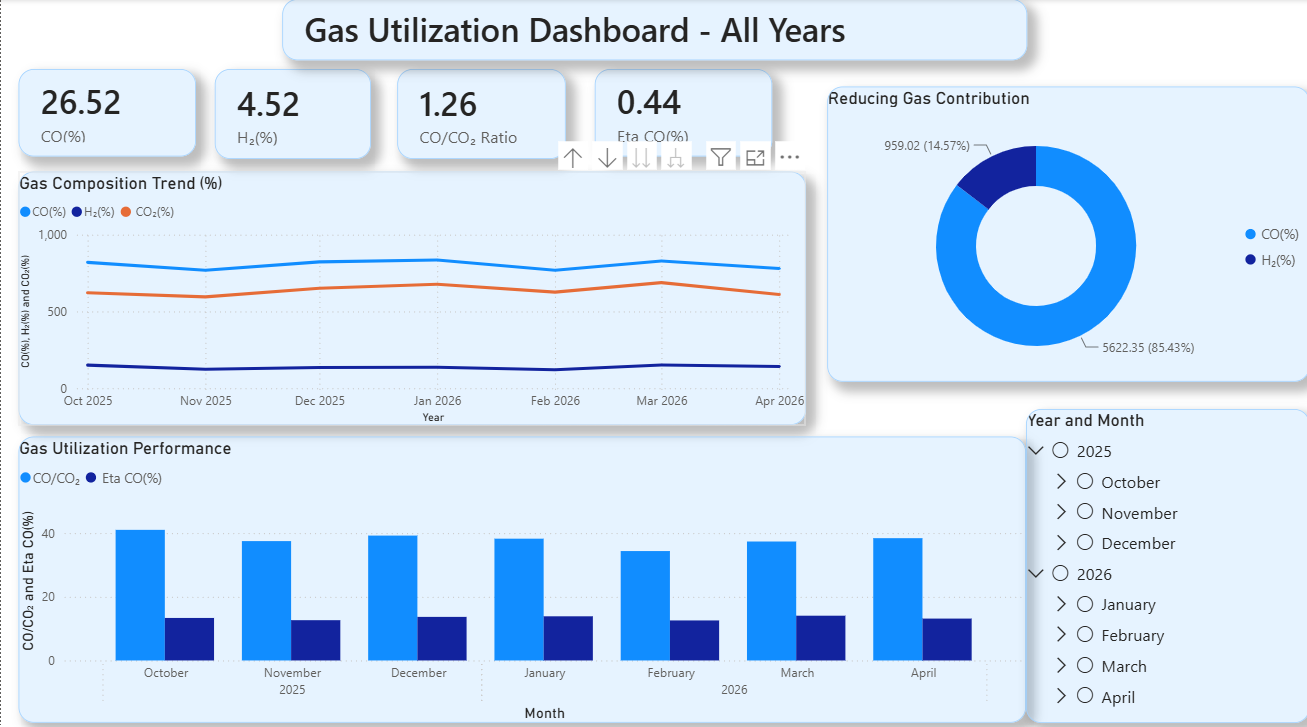

The dashboard page shown, as its layout file describes it:
{"tool":"powerbi","page":{"name":"Gas Utilization","canvas":[1280,720],"ordinal":2},"visuals":[{"type":"cardVisual","fields":{"Data":["Avg(Gas Utilization.CO(%))"]},"box":[17.1,68.5,173.6,85.6],"z":0},{"type":"cardVisual","fields":{"Data":["Avg(Gas Utilization.H₂(%))"]},"box":[209.1,68.5,152.9,88],"z":1000},{"type":"cardVisual","fields":{"Data":["Avg(Gas Utilization.CO/CO₂)"]},"box":[387.6,68.5,165.1,88],"z":2000},{"type":"cardVisual","fields":{"Data":["Avg(Gas Utilization.Eta CO(%))"]},"box":[580.8,68.5,173.6,85.6],"z":3000},{"type":"lineChart","title":"Gas Composition Trend (%)","fields":{"Y":["Sum(Gas Utilization.CO(%))","Sum(Gas Utilization.H₂(%))","Sum(Gas Utilization.CO₂(%))"],"Category":["Mass Balance.Date.Variation.Date Hierarchy.Year","Mass Balance.Date.Variation.Date Hierarchy.Month"]},"box":[17.1,168.8,770.4,248.2],"z":4000},{"type":"donutChart","title":"Reducing Gas Contribution","fields":{"Y":["Sum(Gas Utilization.CO(%))","Sum(Gas Utilization.H₂(%))"]},"box":[808.3,85.6,472,288.6],"z":5000},{"type":"cardVisual","fields":{"Data":["Gas Utilization.Dashboard Title2"]},"box":[275.1,0,728.8,59.9],"z":6000},{"type":"clusteredColumnChart","title":"Gas Utilization Performance","fields":{"Y":["Sum(Gas Utilization.CO/CO₂)","Sum(Gas Utilization.Eta CO(%))"],"Category":["Mass Balance.Date.Variation.Date Hierarchy.Year","Mass Balance.Date.Variation.Date Hierarchy.Month"]},"box":[17.1,428,985.6,280],"z":7000},{"type":"listSlicer","fields":{"Values":["Mass Balance.Date.Variation.Date Hierarchy.Year","Mass Balance.Date.Variation.Date Hierarchy.Month","Mass Balance.Date.Variation.Date Hierarchy.Day"]},"box":[1002.7,401.1,277.6,306.9],"z":8000}]}

Visuals, with their boxes in screenshot pixels (x1, y1, x2, y2), scaled from the page's 1280x720 canvas onto the 1307x727 screenshot:
cardVisual - Avg(Gas Utilization.CO(%)): (x1=17, y1=69, x2=195, y2=156)
cardVisual - Avg(Gas Utilization.H₂(%)): (x1=214, y1=69, x2=370, y2=158)
cardVisual - Avg(Gas Utilization.CO/CO₂): (x1=396, y1=69, x2=564, y2=158)
cardVisual - Avg(Gas Utilization.Eta CO(%)): (x1=593, y1=69, x2=770, y2=156)
"Gas Composition Trend (%)" lineChart: (x1=17, y1=170, x2=804, y2=421)
"Reducing Gas Contribution" donutChart: (x1=825, y1=86, x2=1306, y2=378)
cardVisual - Gas Utilization.Dashboard Title2: (x1=281, y1=0, x2=1025, y2=60)
"Gas Utilization Performance" clusteredColumnChart: (x1=17, y1=432, x2=1024, y2=715)
listSlicer - Mass Balance.Date.Variation.Date Hierarchy.Year x Mass Balance.Date.Variation.Date Hierarchy.Month: (x1=1024, y1=405, x2=1306, y2=715)
